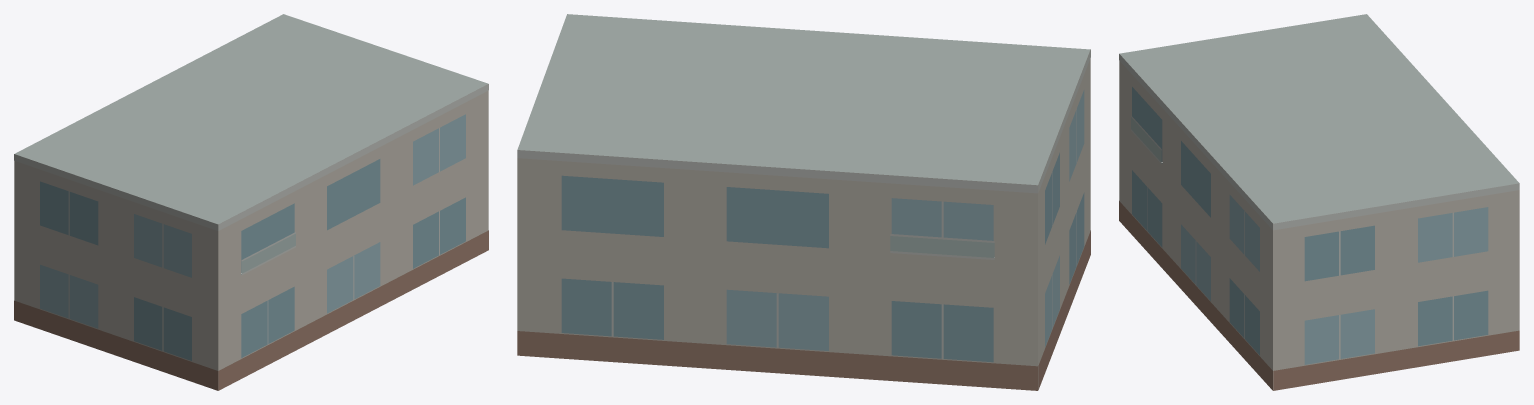
The model's file is survey-upis-32945265.glb.
3 renders of one model, left to right at view 1: azimuth 30°, elevation 25°; view 2: azimuth 150°, elevation 25°; view 3: azimuth 270°, elevation 25°, orthographic. The views are drawn at different scales.
Visible parts, largest first — view 1: survey-upis-32945265.tmp; view 2: survey-upis-32945265.tmp; view 3: survey-upis-32945265.tmp.
Part boxes in pixels (box(x1,y1,x2,y2)): survey-upis-32945265.tmp: box(14, 14, 488, 390); survey-upis-32945265.tmp: box(517, 14, 1090, 390); survey-upis-32945265.tmp: box(1119, 14, 1519, 390).
Bounding box in the file's own units: 16.42 × 6.1 × 13.25.
